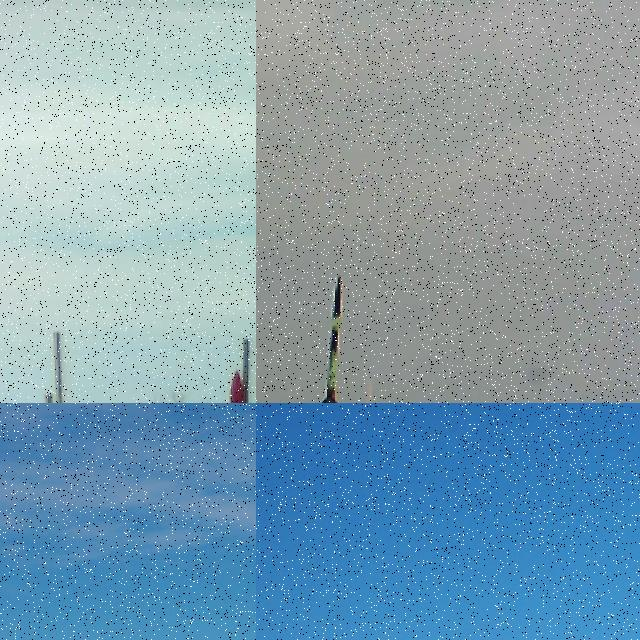Rocket: (316, 275, 341, 403), (201, 368, 256, 403)
